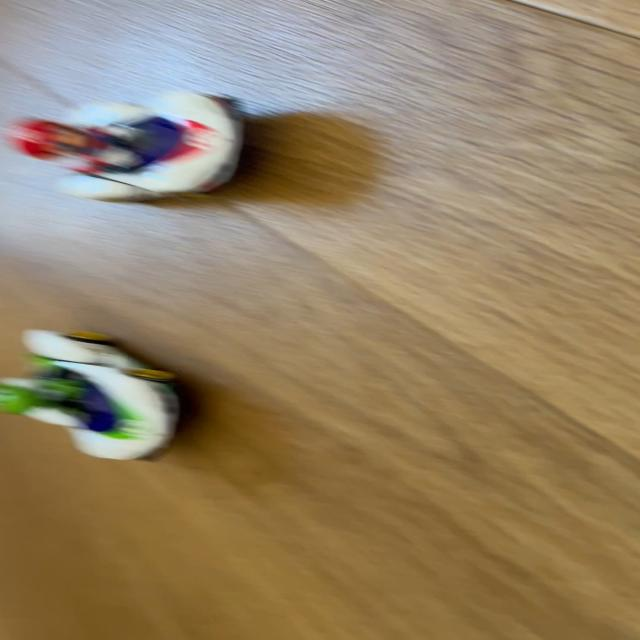mario: (1, 91, 271, 213)
yoshi: (0, 327, 202, 473)
